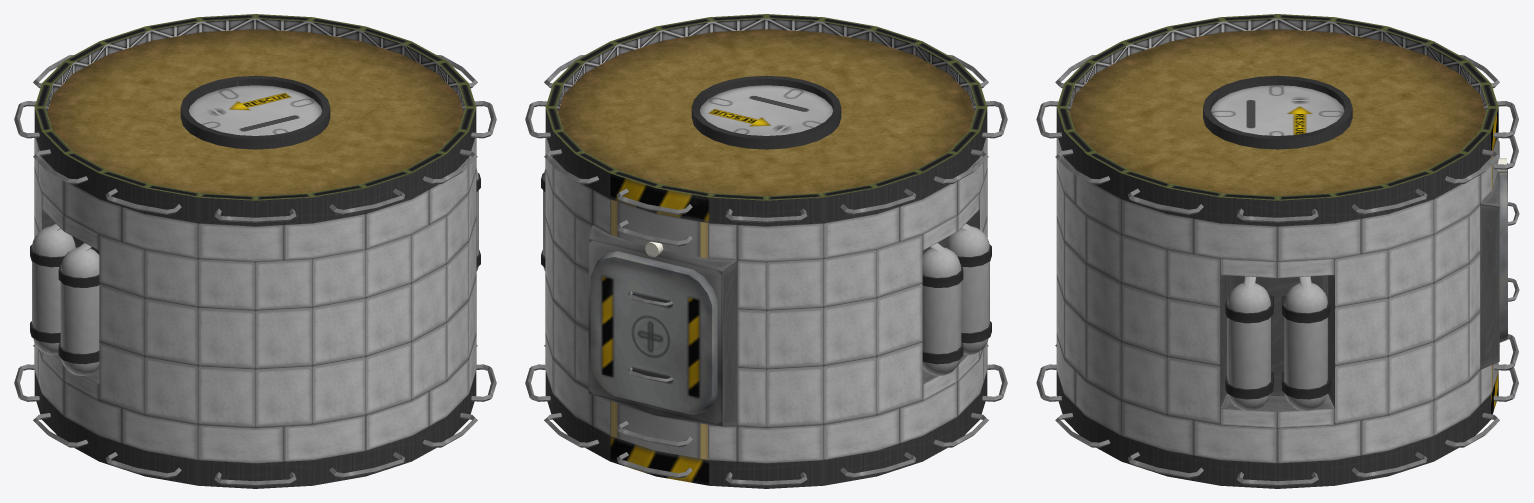
File: AirlockModule.FBX
3 views of the same model, side by side, from view 1: azimuth 30°, elevation 25°; view 2: azimuth 150°, elevation 25°; view 3: azimuth 270°, elevation 25° (orthographic).
Visible parts, largest first — view 1: MainBody, TopEndCap, TankSleeve001, TankSleeve002, CrewPort, StorageTank007, StorageTank008, LadderRung081, LadderRung093; view 2: MainBody, TopEndCap, TankSleeve001, Hatch, TankSleeve002, CrewPort, StorageTank008, StorageTank007, LadderRung077, LadderRung089; view 3: MainBody, TopEndCap, TankSleeve001, TankSleeve002, CrewPort, StorageTank005, StorageTank006, Hatch, MountingBracket011, MountingBracket009, MountingBracket012, MountingBracket010 (+2 smaller).
Boxes of the visible parts, x1,y1,x2,y2 form: MainBody: (34,138,476,463); TopEndCap: (47,29,463,195); TankSleeve001: (34,14,476,226); TankSleeve002: (34,371,476,488); CrewPort: (180,75,330,149); StorageTank007: (60,243,99,375); StorageTank008: (32,223,75,355); LadderRung081: (214,208,296,222); LadderRung093: (214,472,296,486); MainBody: (545,138,987,463); TopEndCap: (558,29,974,195); TankSleeve001: (545,14,987,226); Hatch: (590,251,717,414); TankSleeve002: (545,371,987,488); CrewPort: (691,75,841,149); StorageTank008: (922,243,961,375); StorageTank007: (946,223,989,355); LadderRung077: (725,208,807,222); LadderRung089: (725,472,807,486); MainBody: (1056,138,1499,463); TopEndCap: (1069,29,1485,195); TankSleeve001: (1056,14,1498,226); TankSleeve002: (1056,371,1498,488); CrewPort: (1203,75,1352,149); StorageTank005: (1227,276,1270,411); StorageTank006: (1284,276,1327,411); Hatch: (1499,163,1507,342); MountingBracket011: (1281,295,1330,323); MountingBracket009: (1225,295,1273,323); MountingBracket012: (1281,372,1330,399); MountingBracket010: (1225,372,1273,399).
Size of what is drawn, in the model's own units: 2.05 by 1.35 by 2.05.
